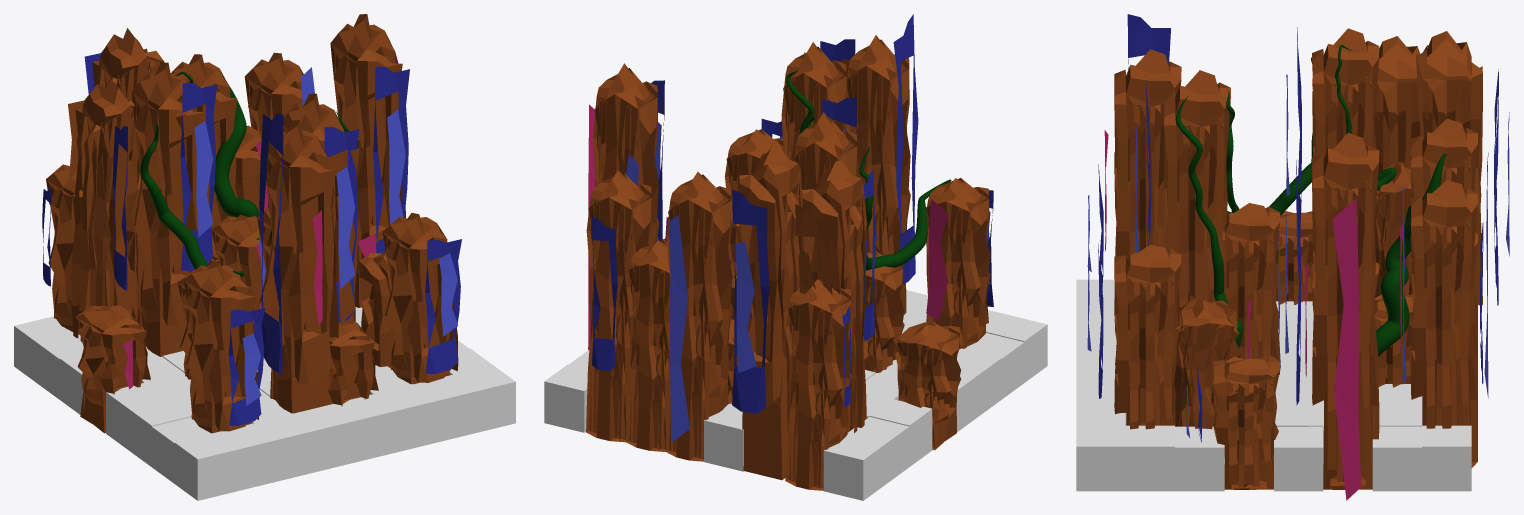
The model's file is levelThree-03.fbx.
3 renders of one model, left to right at view 1: azimuth 30°, elevation 25°; view 2: azimuth 150°, elevation 25°; view 3: azimuth 270°, elevation 25°, orthographic. The views are drawn at different scales.
Visible parts, largest first — view 1: Cube.028, Cube.017, Cube.024, Cube.064, Cube.012, Cube.052, Cube.007, Cube.018, Cube.003, Cube.037, Cube.036, Cube.058 (+39 smaller); view 2: Cube.042, Cube.026, Cube.018, Cube.058, Cube.017, Cube.028, Cube.050, Cube.012, Cube.064, Cube.007, Cube.037, Circular Strip.006 (+24 smaller); view 3: Cube.064, Cube.058, Cube.037, Cube.052, Cube.028, Cube.062, Cube.038, Cube.024, Cube.026, Cube.053, Lone Skinny.007, Cube.017 (+35 smaller).
Part boxes in pixels (box(x1,y1,x2,y2)): Cube.028: box(266, 120, 338, 413); Cube.017: box(68, 78, 139, 341); Cube.024: box(131, 62, 203, 356); Cube.064: box(330, 14, 405, 307); Cube.012: box(183, 261, 258, 433); Cube.052: box(382, 213, 458, 384); Cube.007: box(75, 305, 150, 433); Cube.018: box(46, 164, 82, 334); Cube.003: box(174, 433, 237, 500); Cube.037: box(283, 93, 359, 325); Cube.036: box(328, 321, 378, 406); Cube.058: box(244, 52, 303, 136); Cube.042: box(665, 172, 732, 461); Cube.026: box(739, 144, 802, 480); Cube.018: box(785, 279, 852, 490); Cube.058: box(586, 170, 651, 442); Cube.017: box(795, 161, 867, 432); Cube.028: box(845, 35, 910, 314); Cube.050: box(626, 240, 670, 451); Cube.012: box(926, 178, 990, 348); Cube.064: box(593, 63, 659, 244); Cube.007: box(895, 321, 961, 450); Cube.037: box(781, 42, 850, 161); Circular Strip.006: box(732, 189, 769, 413); Cube.064: box(1312, 133, 1379, 489); Cube.058: box(1410, 180, 1477, 468); Cube.037: box(1137, 70, 1230, 320); Cube.052: box(1114, 244, 1181, 429); Cube.028: box(1114, 49, 1181, 315); Cube.062: box(1213, 356, 1280, 489); Cube.038: box(1220, 203, 1280, 374); Cube.024: box(1312, 28, 1379, 298); Cube.026: box(1415, 31, 1482, 305); Cube.053: box(1173, 298, 1240, 429); Lone Skinny.007: box(1332, 199, 1361, 500); Cube.017: box(1374, 36, 1419, 172).
Size of the model in its own units: 1711 by 1665 by 1754.
